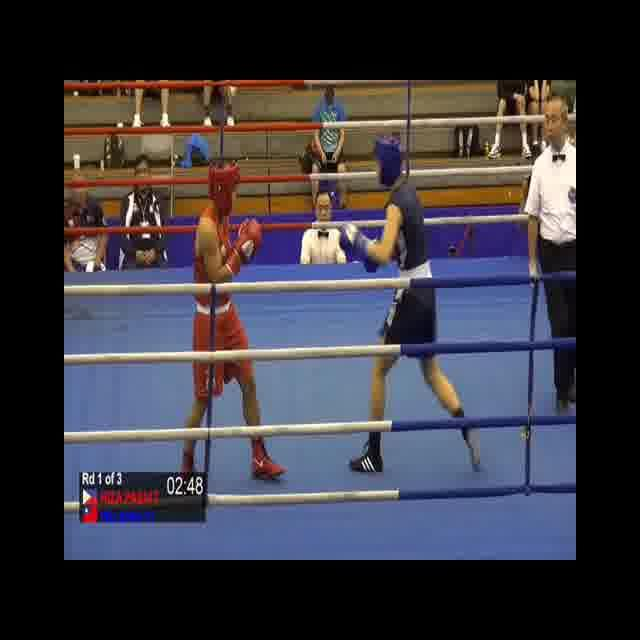blue-player: (338, 134, 482, 478)
red-player: (171, 158, 290, 494)
referee: (522, 94, 577, 421)
